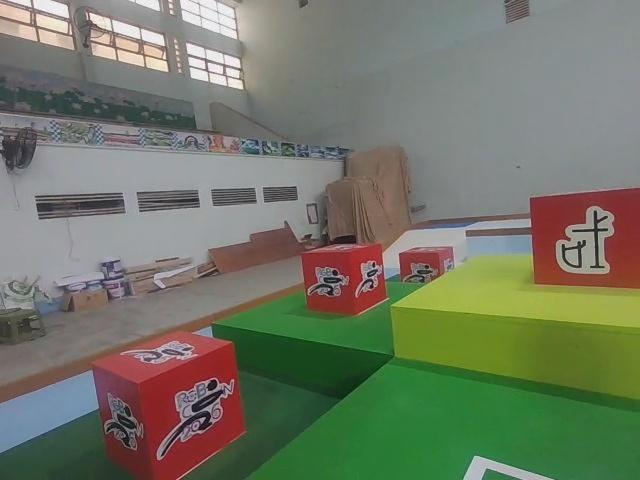R1: (84, 329, 262, 475), (301, 243, 386, 315), (399, 243, 455, 290)
R2 Real: (527, 184, 640, 293)
